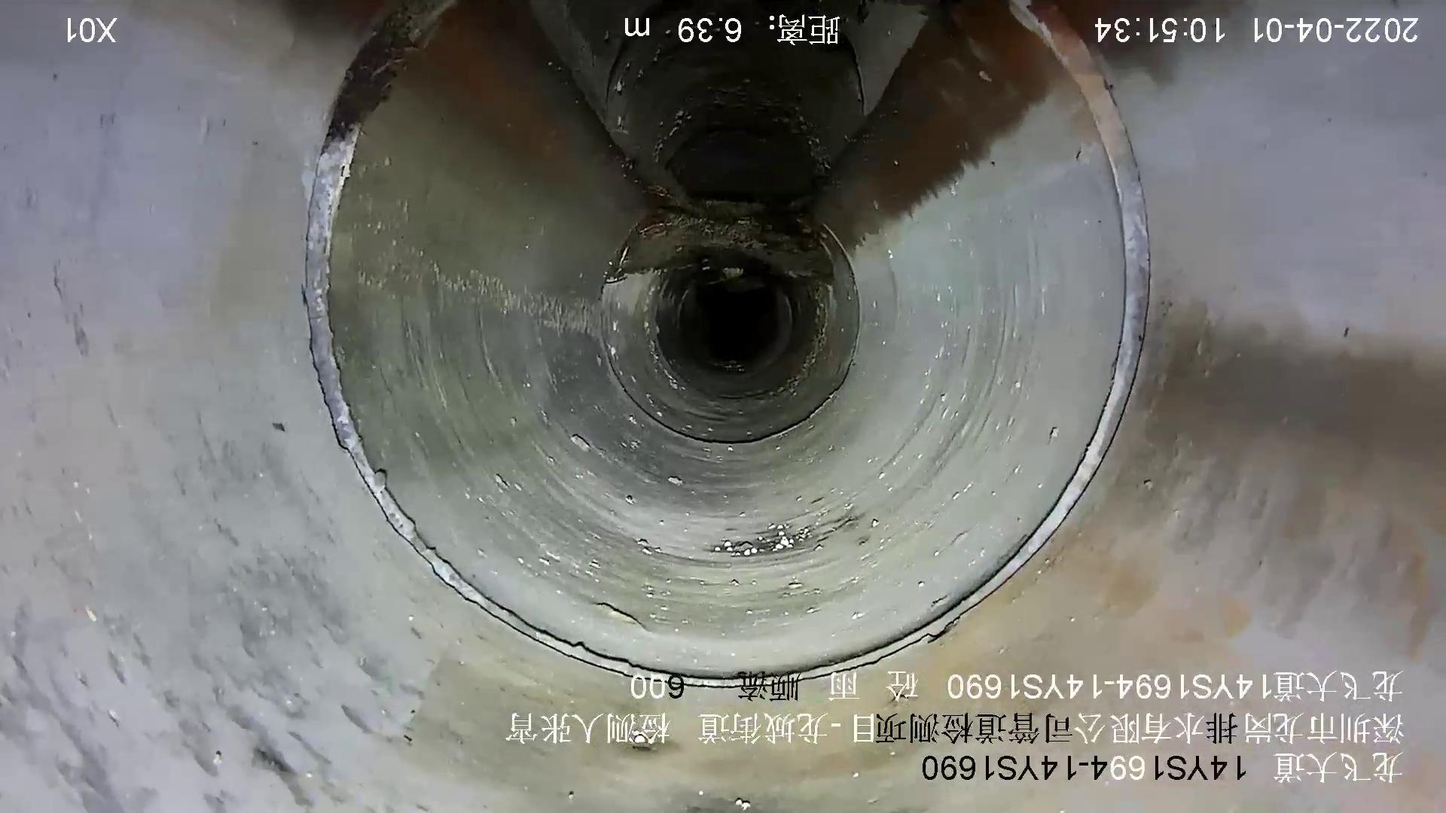CJ: (606, 201, 819, 284)
CKTJ: (304, 1, 1152, 696)
